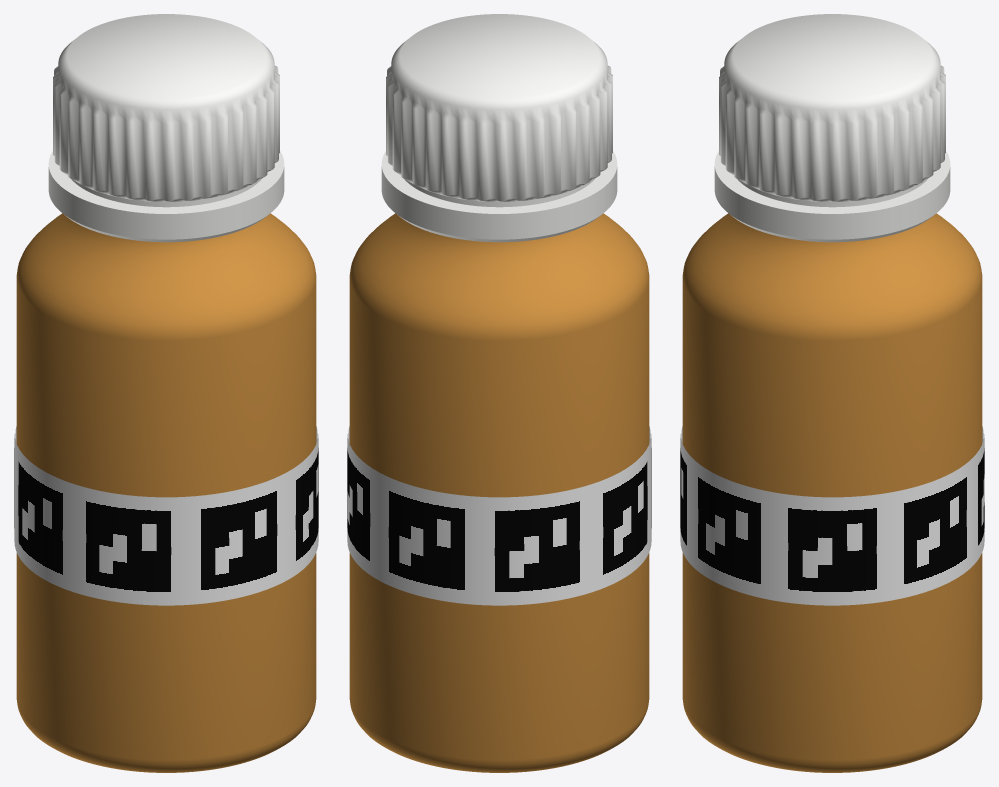
Rendered from SMP-0142_2001852335522.glb.
3 renders of one model, left to right at view 1: azimuth 30°, elevation 25°; view 2: azimuth 150°, elevation 25°; view 3: azimuth 270°, elevation 25°, orthographic.
Parts seen in each view (by area): view 1: Bottle_020ml, Cap_020ml_PP18, Label_SMP-0142; view 2: Bottle_020ml, Cap_020ml_PP18, Label_SMP-0142; view 3: Bottle_020ml, Cap_020ml_PP18, Label_SMP-0142.
Part boxes in pixels (box(x1,y1,x2,y2)): Bottle_020ml: box(16, 213, 316, 772); Cap_020ml_PP18: box(48, 14, 284, 242); Label_SMP-0142: box(14, 426, 318, 605); Bottle_020ml: box(349, 213, 649, 772); Cap_020ml_PP18: box(381, 14, 617, 242); Label_SMP-0142: box(347, 426, 651, 605); Bottle_020ml: box(682, 213, 982, 772); Cap_020ml_PP18: box(714, 14, 950, 242); Label_SMP-0142: box(680, 426, 984, 605).
Bounding box in the file's own units: 0.0281 × 0.0675 × 0.0281.
Materials: 4 (1 with a texture image).
